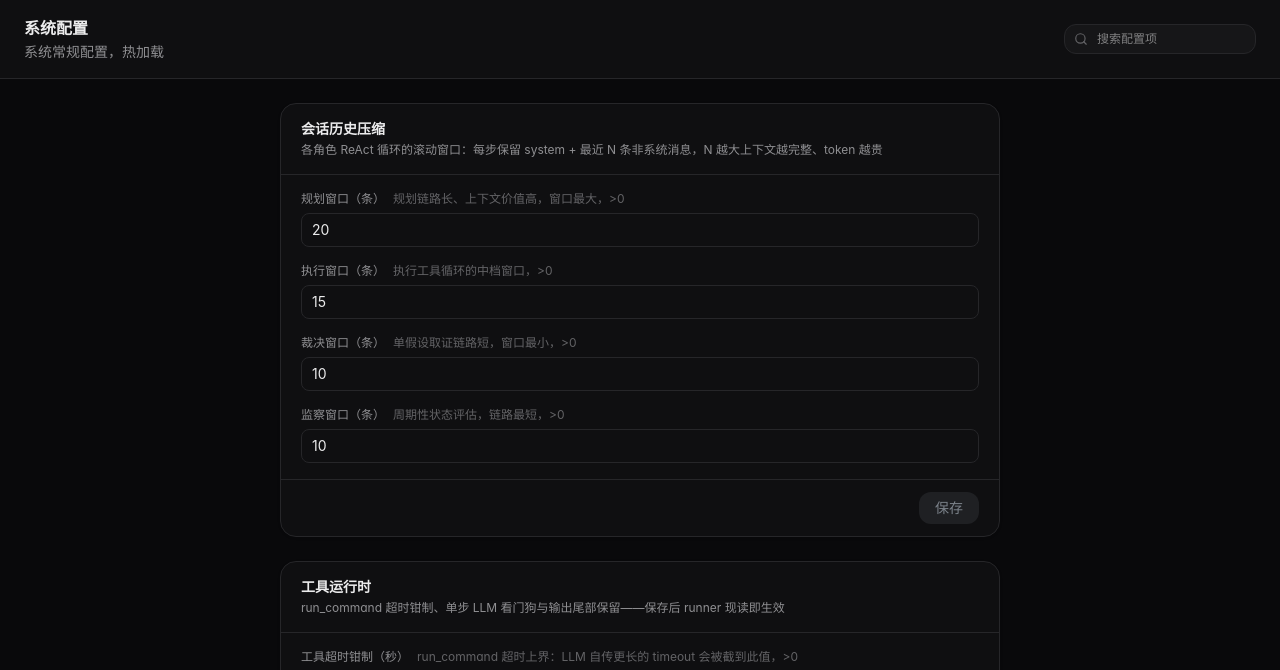
Test: SystemConfig › 搜索"流量"仅显示代理流量过滤规则分区
The image size is (1280, 670).
Check: the heading "会话历史压缩" is shown, box [301, 122, 385, 138]
Type "流量" into the search field with placeholder "搜索配置项".
click(1160, 39); type("流量")  # box [1064, 24, 1256, 54]
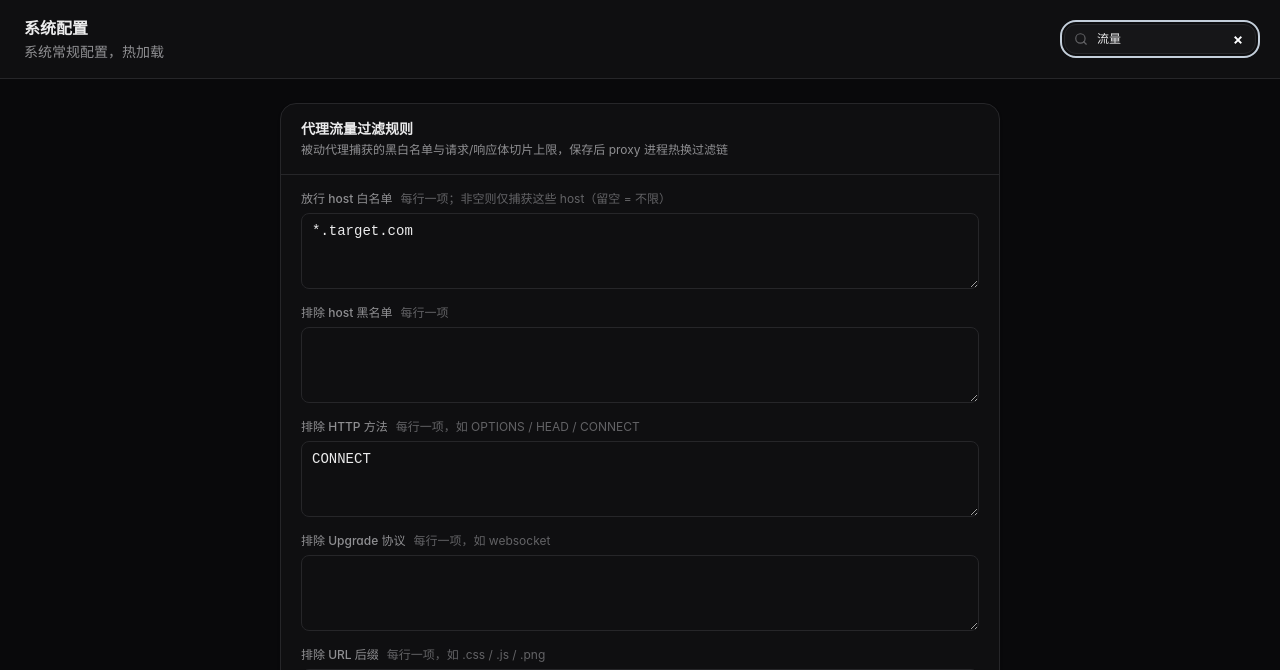
Check: the heading "会话历史压缩" is gone
Check: the heading "工具运行时" is gone
Check: the heading "代理流量过滤规则" is shown, box [301, 122, 413, 138]
